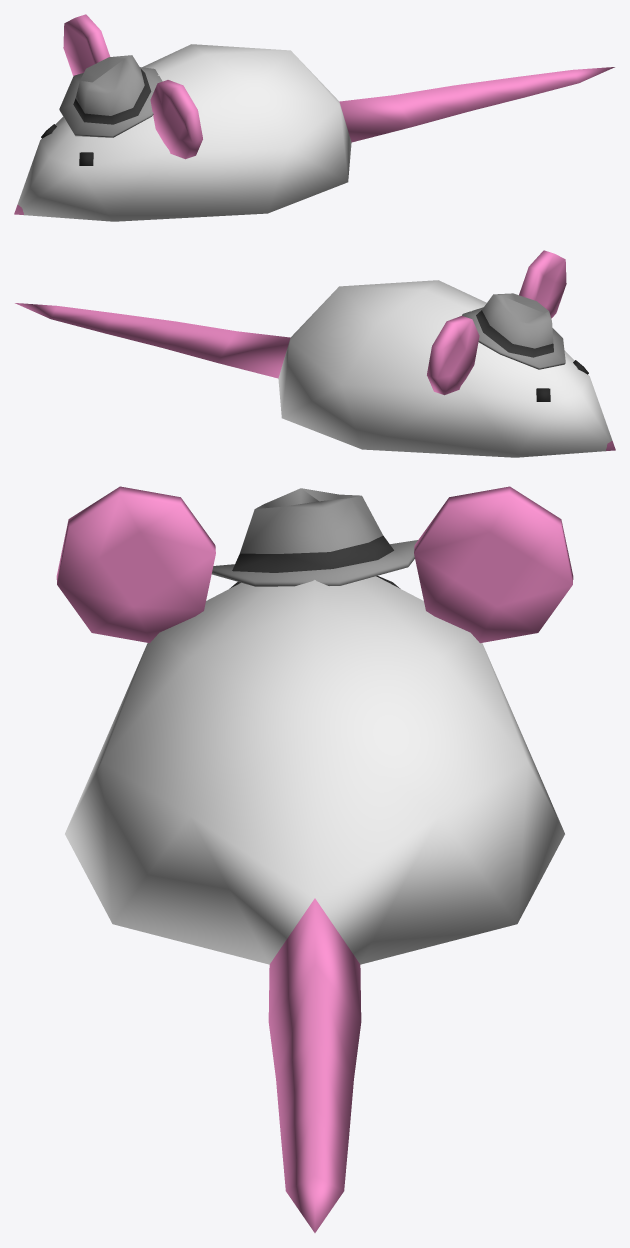
The model's file is mouse.glb.
3 renders of one model, top to bottom at view 1: azimuth 30°, elevation 25°; view 2: azimuth 150°, elevation 25°; view 3: azimuth 270°, elevation 25°, orthographic. The views are drawn at different scales.
Visible parts, largest first — view 1: Rat, Hat, Ears, Eyes; view 2: Rat, Hat, Ears, Eyes; view 3: Rat, Ears, Hat.
Part boxes in pixels (x1=…): Rat: x1=14, y1=44, x2=614, y2=221; Hat: x1=59, y1=55, x2=162, y2=137; Ears: x1=63, y1=14, x2=202, y2=159; Eyes: x1=41, y1=124, x2=93, y2=165; Rat: x1=15, y1=280, x2=615, y2=457; Hat: x1=462, y1=293, x2=565, y2=369; Ears: x1=427, y1=250, x2=566, y2=395; Eyes: x1=536, y1=360, x2=588, y2=401; Rat: x1=65, y1=576, x2=564, y2=1232; Ears: x1=56, y1=486, x2=573, y2=643; Hat: x1=212, y1=488, x2=417, y2=586.
Bounding box in the file's own units: 5.56 × 1.19 × 2.06.
1 material, 1 textured.
